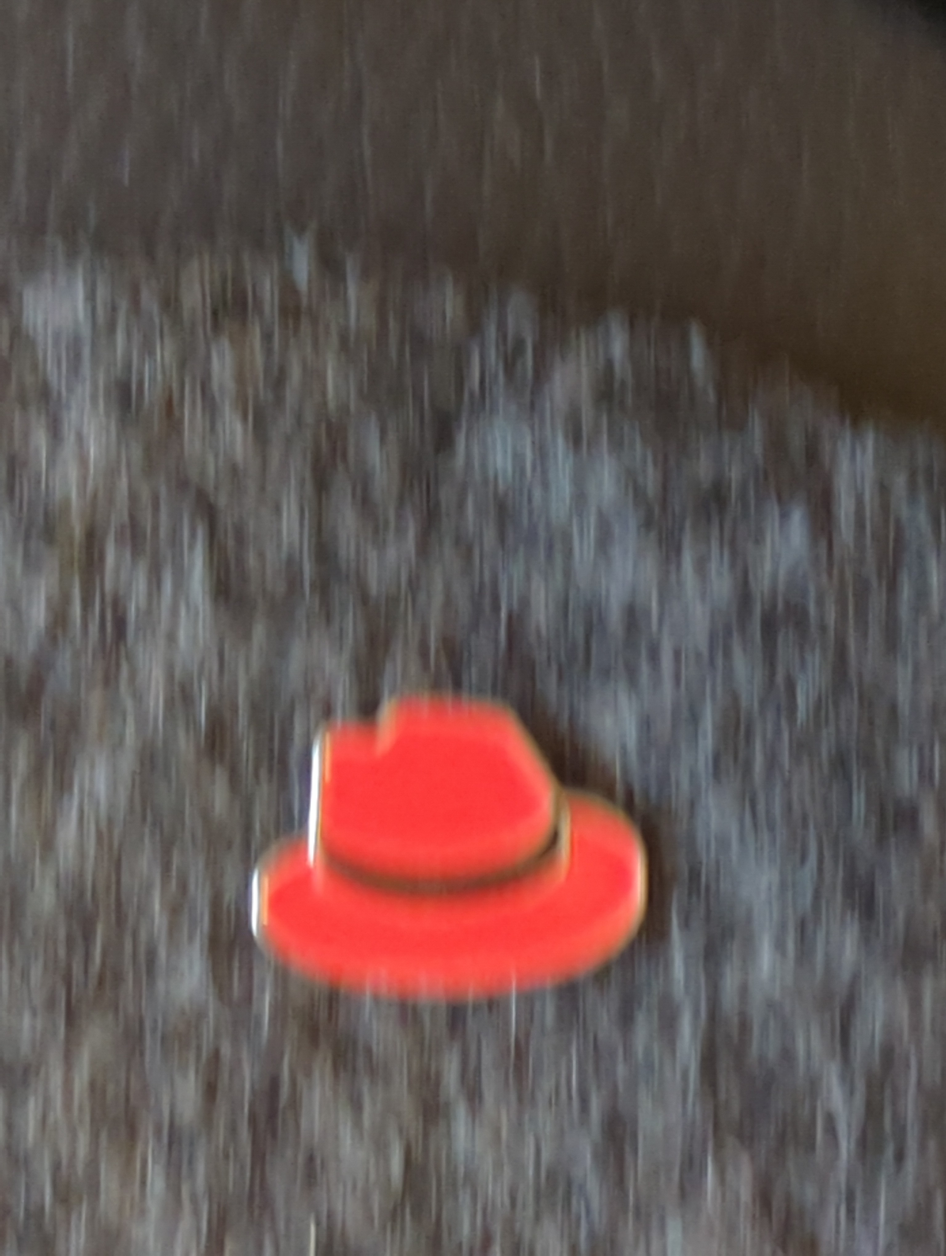Red-Hat: (115, 621, 767, 1092)
